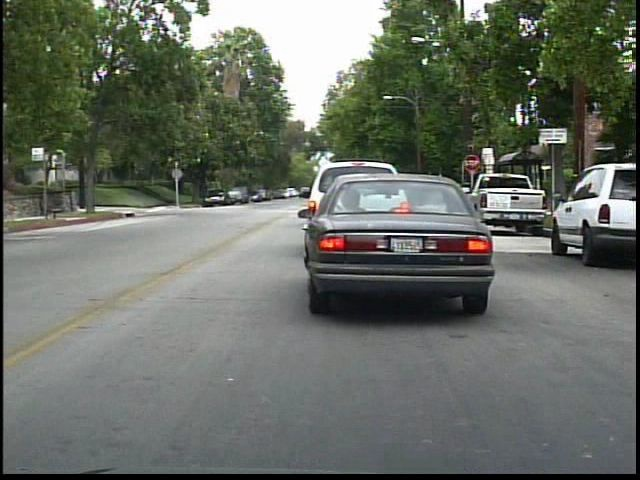person: (204, 179, 219, 204)
